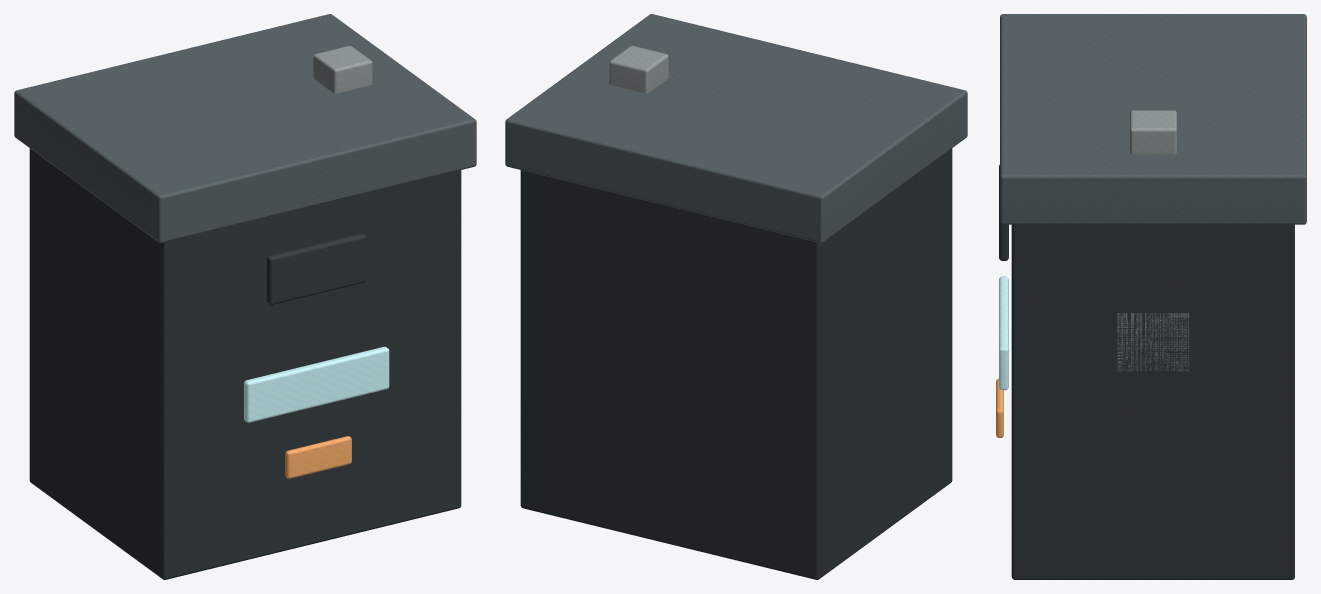
Rendered from MobileCryogenicCase.glb.
The picture shows the model from 3 angles, left to right: view 1: azimuth 30°, elevation 25°; view 2: azimuth 150°, elevation 25°; view 3: azimuth 270°, elevation 25°; orthographic projection. The views are drawn at different scales.
Parts seen in each view (by area): view 1: MobileCryogenicCase_Mesh; view 2: MobileCryogenicCase_Mesh; view 3: MobileCryogenicCase_Mesh.
Boxes of the visible parts, x1,y1,x2,y2 form: MobileCryogenicCase_Mesh: [14, 14, 476, 579]; MobileCryogenicCase_Mesh: [505, 14, 967, 579]; MobileCryogenicCase_Mesh: [996, 14, 1306, 579].
Bounding box in the file's own units: 0.98 × 1.22 × 0.79.
5 materials, 5 textured.
